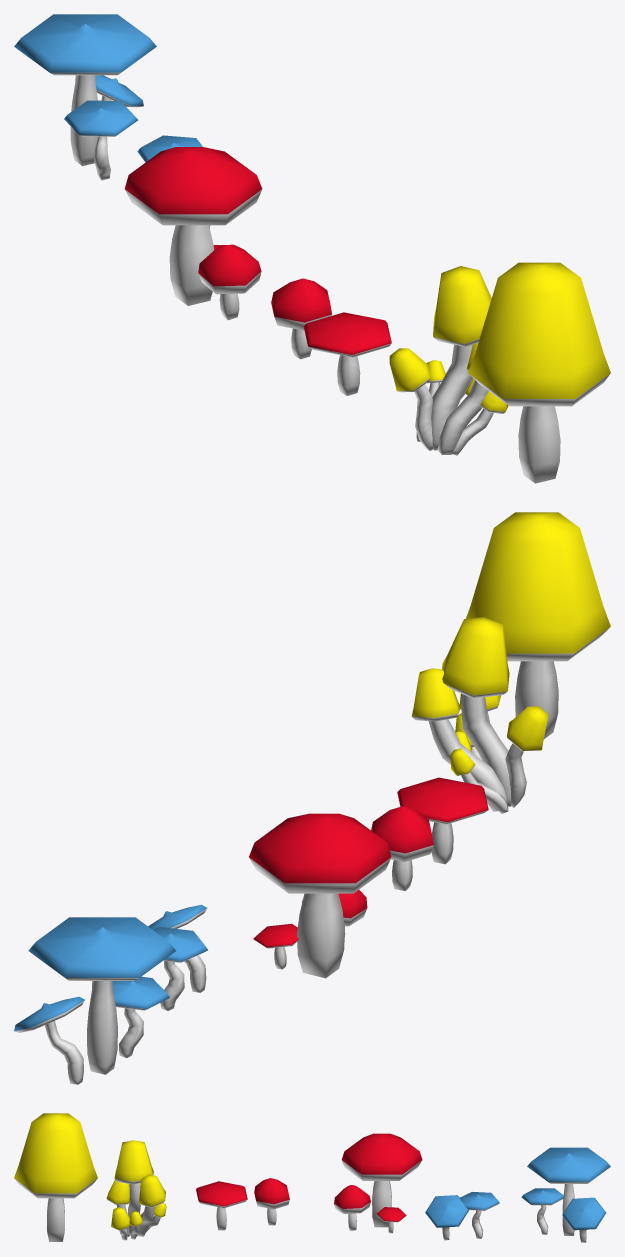
File: Cogumelos.fbx
3 views of the same model, one above another, from view 1: azimuth 30°, elevation 25°; view 2: azimuth 150°, elevation 25°; view 3: azimuth 270°, elevation 25° (orthographic). The views are drawn at different scales.
Visible parts, largest first — view 1: CogumeloAmarelo, ConjundoCogumelosVermelhos, ConjuntoCogumelosAzuis, ConjuntoCogumelosAmarelos, CogumeloVermelhoAchatado, CogumeloVermelhoRedondo, CogumeloAzulAchatado; view 2: CogumeloAmarelo, ConjundoCogumelosVermelhos, ConjuntoCogumelosAmarelos, ConjuntoCogumelosAzuis, CogumeloVermelhoAchatado, CogumeloVermelhoRedondo, CogumeloAzulAchatado, CogumeloAzulTorto; view 3: CogumeloAmarelo, ConjundoCogumelosVermelhos, ConjuntoCogumelosAzuis, ConjuntoCogumelosAmarelos, CogumeloVermelhoAchatado, CogumeloAzulTorto, CogumeloVermelhoRedondo, CogumeloAzulAchatado.
Part boxes in pixels (bbox=[...]): CogumeloAmarelo: bbox=[468, 262, 610, 483]; ConjundoCogumelosVermelhos: bbox=[124, 147, 262, 320]; ConjuntoCogumelosAzuis: bbox=[14, 14, 156, 180]; ConjuntoCogumelosAmarelos: bbox=[389, 266, 508, 455]; CogumeloVermelhoAchatado: bbox=[303, 312, 391, 395]; CogumeloVermelhoRedondo: bbox=[271, 278, 331, 359]; CogumeloAzulAchatado: bbox=[137, 135, 202, 162]; CogumeloAmarelo: bbox=[466, 512, 610, 739]; ConjundoCogumelosVermelhos: bbox=[249, 813, 391, 978]; ConjuntoCogumelosAmarelos: bbox=[411, 616, 548, 813]; ConjuntoCogumelosAzuis: bbox=[14, 917, 176, 1084]; CogumeloVermelhoAchatado: bbox=[397, 777, 488, 864]; CogumeloVermelhoRedondo: bbox=[371, 806, 433, 890]; CogumeloAzulAchatado: bbox=[153, 927, 207, 1010]; CogumeloAzulTorto: bbox=[148, 904, 207, 992]; CogumeloAmarelo: bbox=[14, 1113, 97, 1241]; ConjundoCogumelosVermelhos: bbox=[334, 1133, 422, 1233]; ConjuntoCogumelosAzuis: bbox=[521, 1147, 610, 1242]; ConjuntoCogumelosAmarelos: bbox=[106, 1140, 166, 1240]; CogumeloVermelhoAchatado: bbox=[196, 1181, 247, 1230]; CogumeloAzulTorto: bbox=[425, 1195, 469, 1240]; CogumeloVermelhoRedondo: bbox=[254, 1178, 289, 1225]; CogumeloAzulAchatado: bbox=[460, 1192, 499, 1238].
Size of the model in its own units: 94.98 by 117 by 481.
